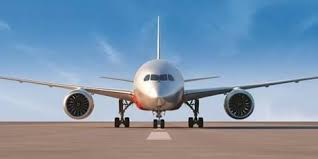maybay_dansu: (6, 25, 318, 128)
